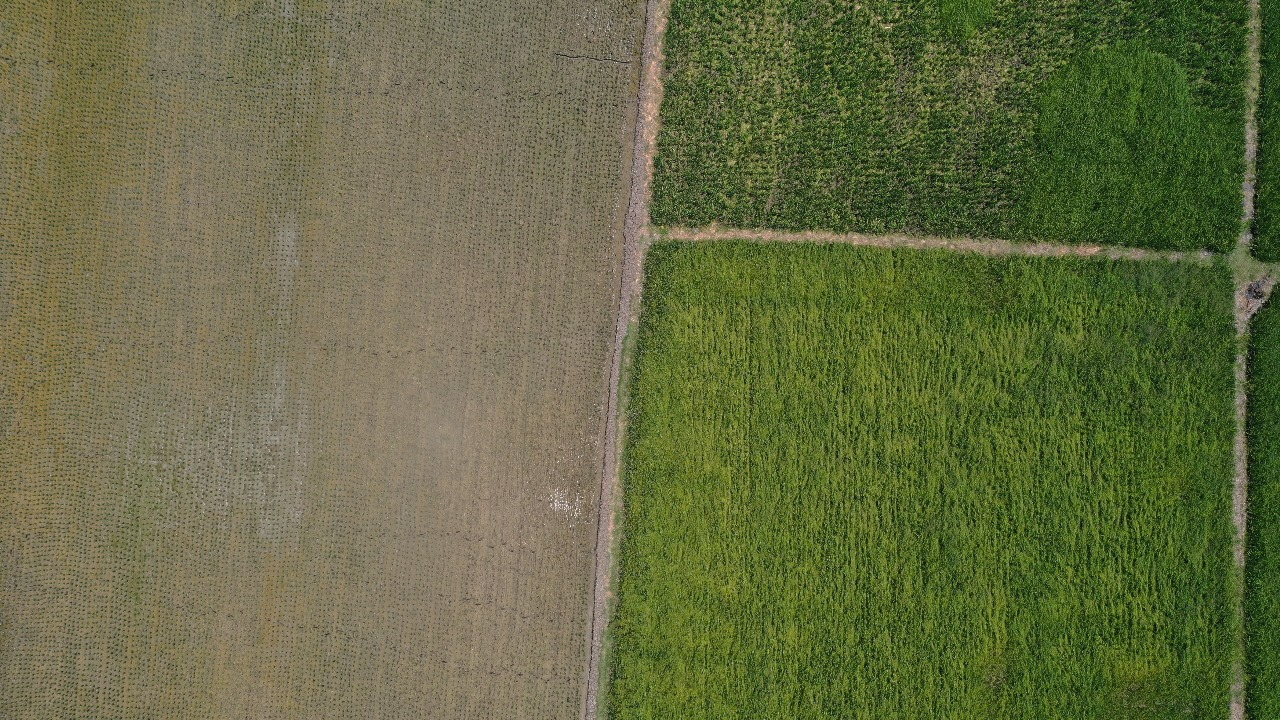irigation: (613, 212, 1238, 271), (584, 243, 647, 720), (1223, 288, 1256, 720), (616, 1, 682, 215), (1236, 1, 1271, 294)
